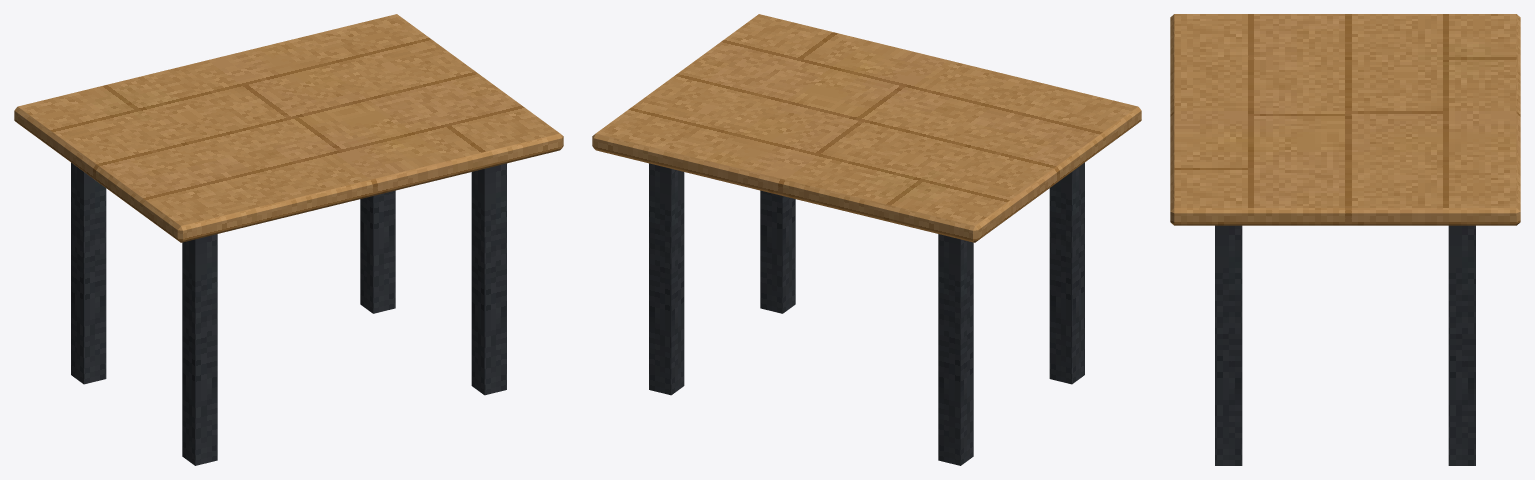
The picture shows the model from 3 angles, left to right: view 1: azimuth 30°, elevation 25°; view 2: azimuth 150°, elevation 25°; view 3: azimuth 270°, elevation 25°; orthographic projection. The views are drawn at different scales.
Parts seen in each view (by area): view 1: Decor_wood_display_table_small; view 2: Decor_wood_display_table_small; view 3: Decor_wood_display_table_small.
Part boxes in pixels (x1=…): Decor_wood_display_table_small: x1=14, y1=14, x2=563, y2=465; Decor_wood_display_table_small: x1=592, y1=14, x2=1141, y2=465; Decor_wood_display_table_small: x1=1170, y1=14, x2=1520, y2=465.
Bounding box in the file's own units: 1.2 × 0.78 × 0.9.
Materials: 2 (2 with a texture image).
